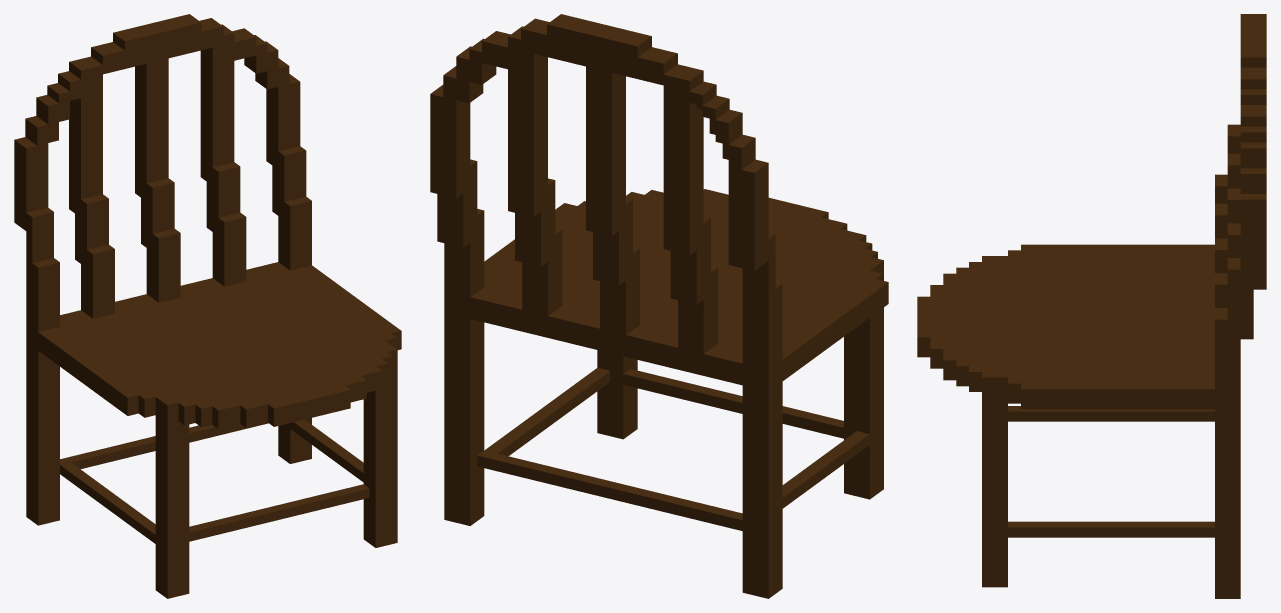
Rendered from chaise.fbx.
The picture shows the model from 3 angles, left to right: view 1: azimuth 30°, elevation 25°; view 2: azimuth 150°, elevation 25°; view 3: azimuth 270°, elevation 25°; orthographic projection. The views are drawn at different scales.
Visible parts, largest first — view 1: Chaise; view 2: Chaise; view 3: Chaise.
Boxes of the visible parts, x1,y1,x2,y2 form: Chaise: [14, 14, 401, 598]; Chaise: [430, 14, 888, 598]; Chaise: [917, 14, 1266, 598].
Size of the model in its own units: 63.5 by 100 by 64.7.
Materials: 1 (1 with a texture image).
